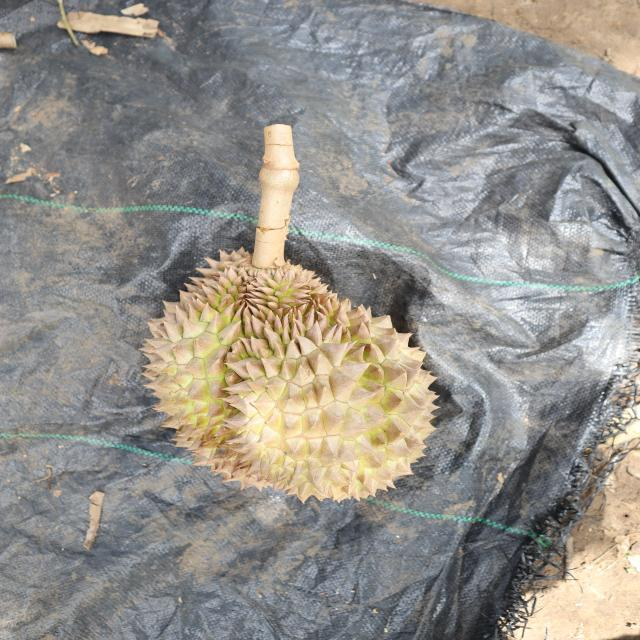mature: (139, 248, 436, 504)
